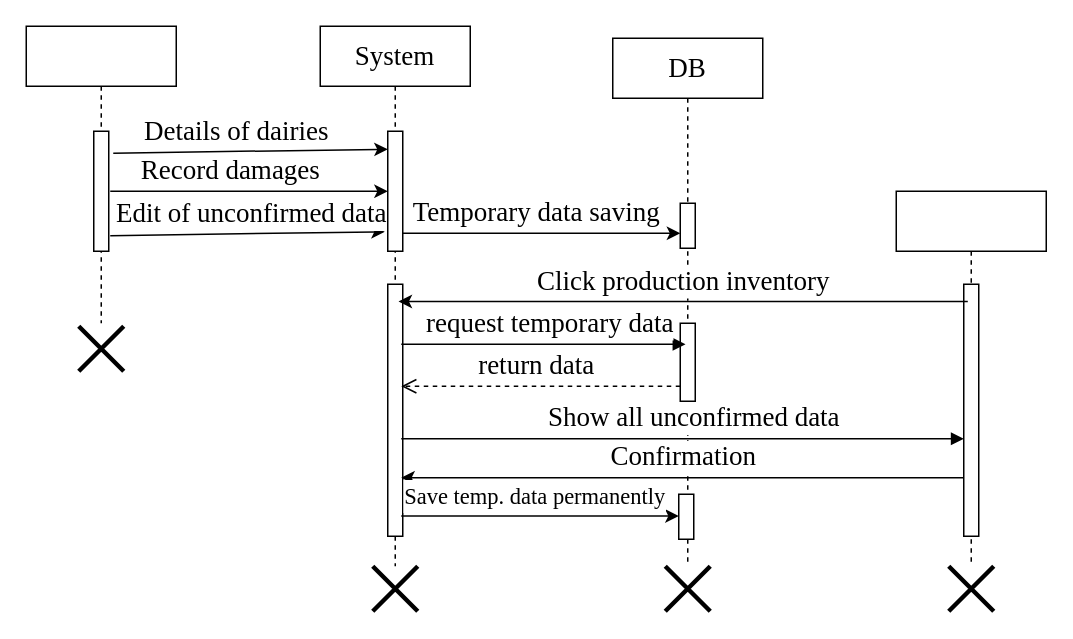
The diagram is 1073 pixels wide and 639 high, and some of its shapes have lost their labels. The shapes that lost their labels are listed below. From the top down, each one's box as (x1, y1, x2, y2) in pixels, then its label:
(25, 25, 176, 323): Farmer
(895, 190, 1046, 566): Admin
